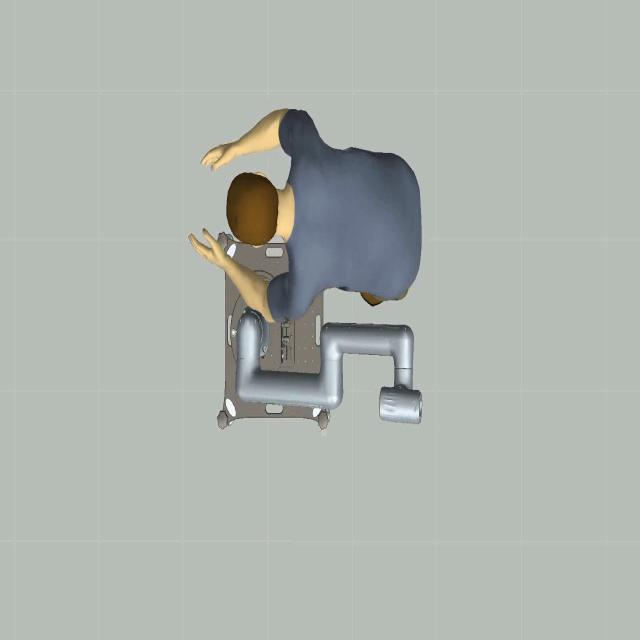human: (185, 108, 428, 334)
robot: (230, 296, 424, 434)
